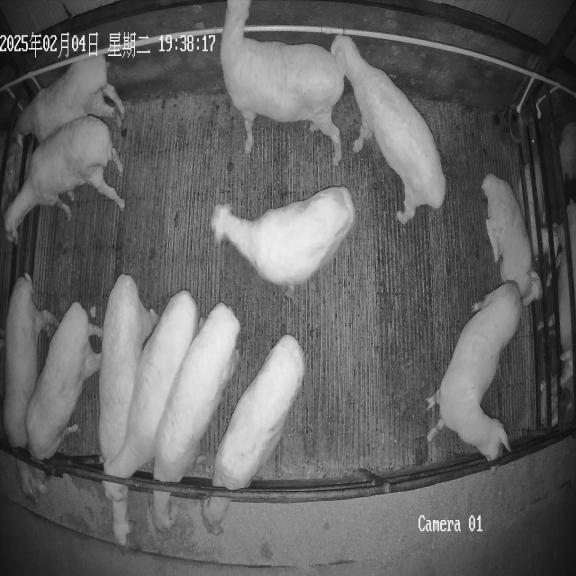eating: (202, 334, 305, 535), (151, 302, 240, 530), (99, 274, 158, 546), (26, 302, 102, 492), (3, 273, 58, 495)
lying: (482, 174, 542, 307)
stand: (331, 35, 445, 224), (220, 0, 345, 165), (102, 290, 199, 502), (426, 281, 522, 461), (211, 187, 355, 297), (5, 116, 125, 242), (16, 55, 124, 143)
